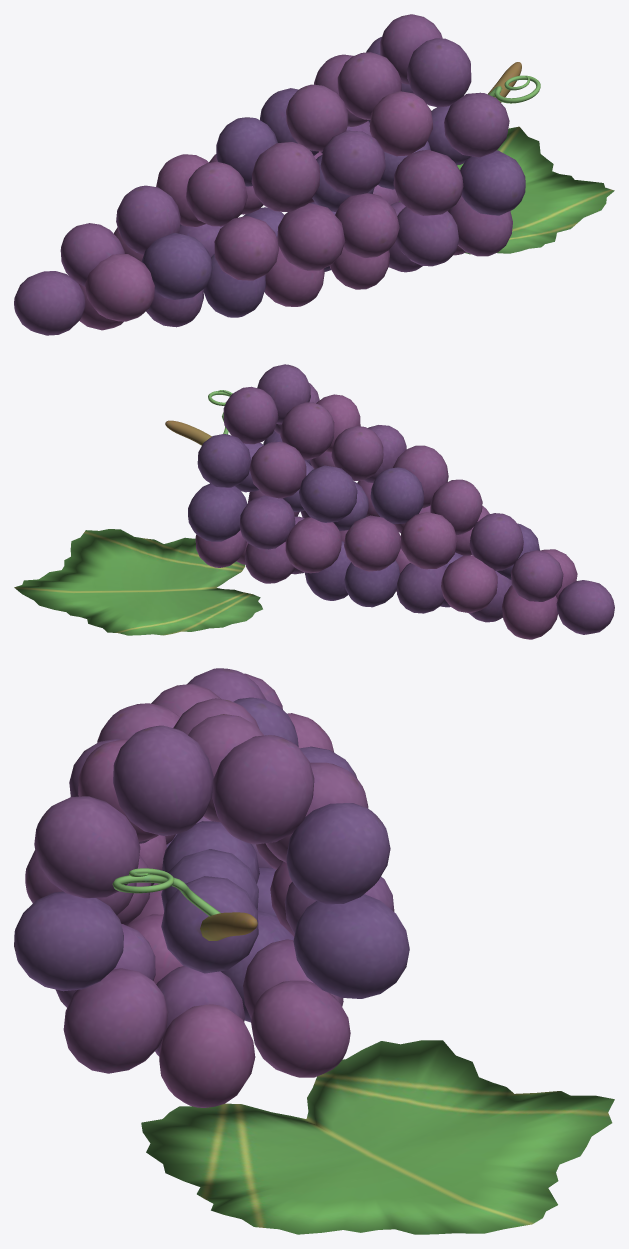
Rendered from grapes.glb.
3 views of the same model, one above another, from view 1: azimuth 30°, elevation 25°; view 2: azimuth 150°, elevation 25°; view 3: azimuth 270°, elevation 25° (orthographic). The views are drawn at different scales.
Visible parts, largest first — view 1: grapes_body; view 2: grapes_body; view 3: grapes_body.
Part boxes in pixels (x1=…): grapes_body: x1=14, y1=14, x2=614, y2=335; grapes_body: x1=14, y1=364, x2=614, y2=639; grapes_body: x1=14, y1=668, x2=614, y2=1234.
Bounding box in the file's own units: 0.1979 × 0.0742 × 0.109.
Materials: 1 (1 with a texture image).
